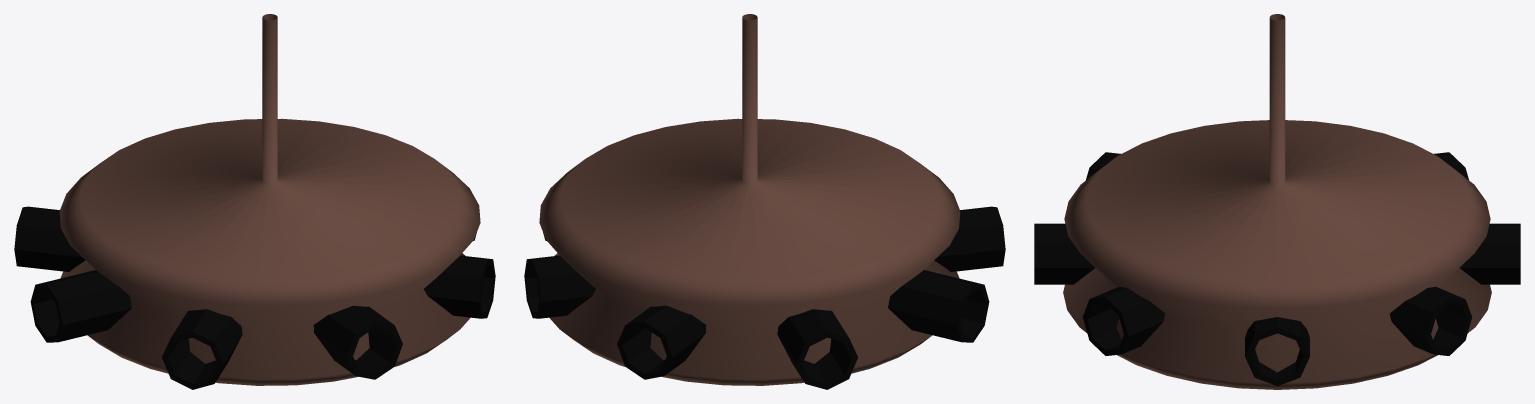
Rendered from gun.fbx.
The picture shows the model from 3 angles, left to right: view 1: azimuth 30°, elevation 25°; view 2: azimuth 150°, elevation 25°; view 3: azimuth 270°, elevation 25°; orthographic projection.
Parts seen in each view (by area): view 1: Circle, Circle.004; view 2: Circle, Circle.004; view 3: Circle, Circle.004.
Part boxes in pixels (<box>): Circle: <box>59,14,480,385</box>; Circle.004: <box>14,206,495,389</box>; Circle: <box>539,14,960,385</box>; Circle.004: <box>524,206,1005,389</box>; Circle: <box>1063,14,1491,389</box>; Circle.004: <box>1034,152,1520,385</box>.
Size of the model in its own units: 240 by 182 by 240.
